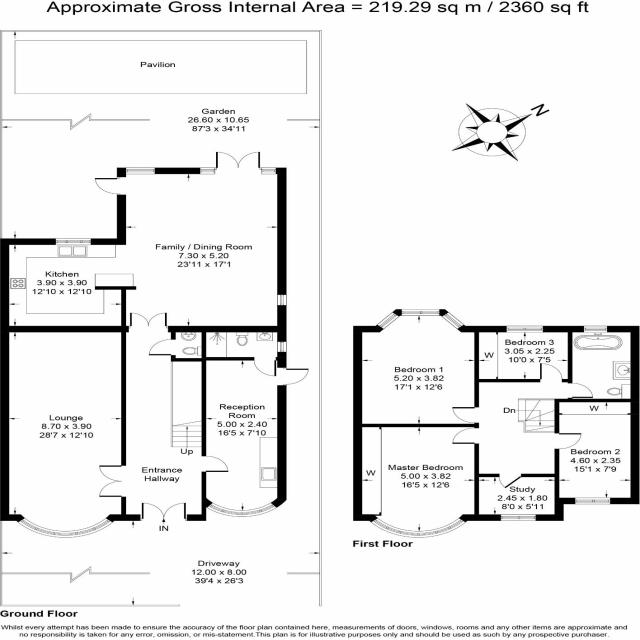DOOR: (95, 176, 126, 196), (277, 367, 309, 386), (452, 406, 480, 424), (253, 357, 277, 377), (554, 433, 582, 450), (451, 427, 479, 444), (201, 455, 229, 472), (539, 363, 563, 382), (568, 383, 594, 398), (498, 474, 522, 489)
DOUBLE DOOR: (214, 149, 264, 175), (94, 462, 127, 499)
ROOM: (0, 151, 287, 333), (0, 324, 128, 540), (201, 357, 309, 518), (353, 308, 479, 427), (353, 424, 479, 538), (554, 399, 640, 504)
WINDOW: (14, 516, 116, 538), (370, 517, 467, 538), (206, 502, 278, 517), (441, 311, 465, 330), (376, 312, 400, 330), (506, 325, 544, 333), (401, 309, 440, 316), (574, 497, 611, 504), (500, 514, 537, 521), (55, 238, 91, 245), (125, 167, 155, 175), (583, 326, 608, 333), (277, 294, 287, 306), (199, 167, 216, 174), (261, 167, 276, 174)
